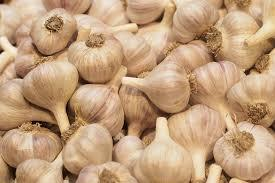garlic: (1, 0, 275, 183)
